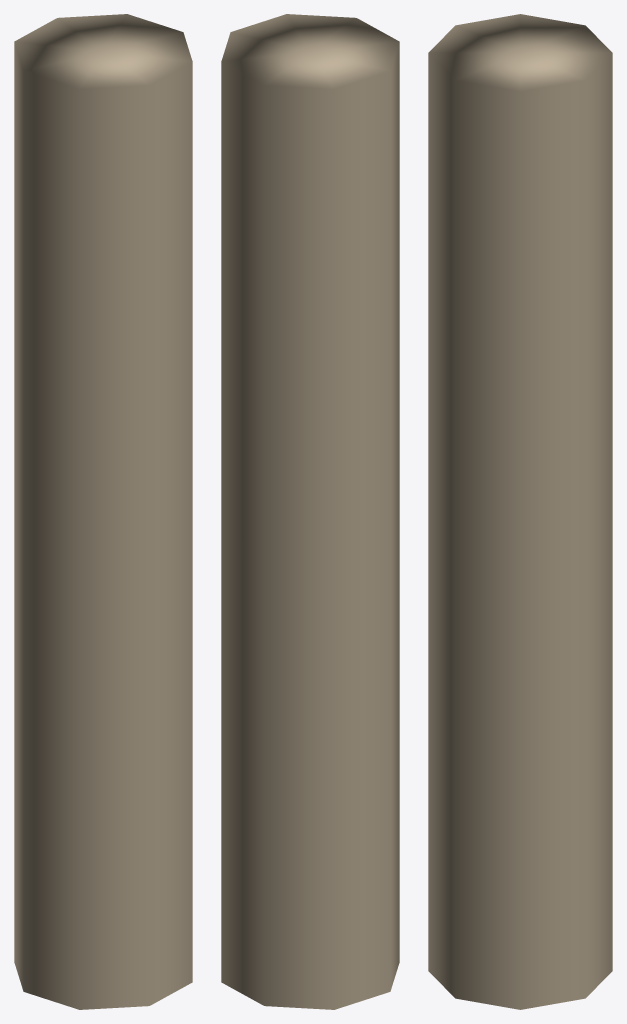
The model's file is ropeRailPost.glb.
The picture shows the model from 3 angles, left to right: view 1: azimuth 30°, elevation 25°; view 2: azimuth 150°, elevation 25°; view 3: azimuth 270°, elevation 25°; orthographic projection.
Parts seen in each view (by area): view 1: post; view 2: post; view 3: post.
Part boxes in pixels (<box>): post: <box>14,14,192,1009</box>; post: <box>221,14,399,1009</box>; post: <box>428,14,612,1009</box>.
Bounding box in the file's own units: 0.2 × 1.1 × 0.2.
